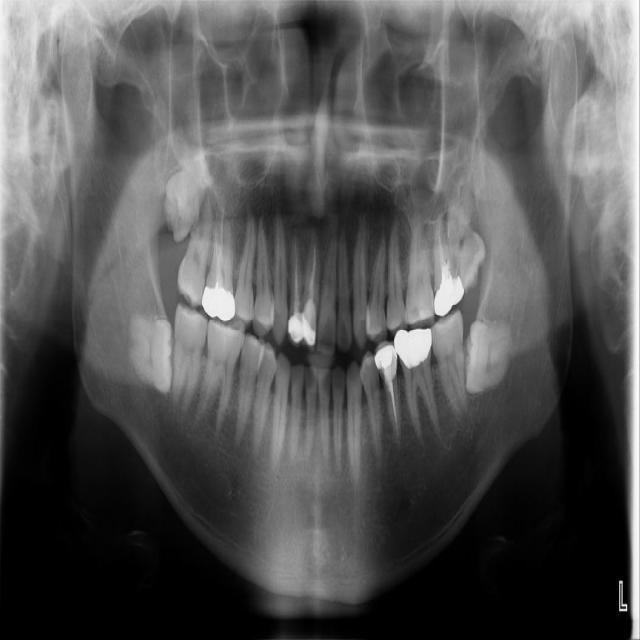Crown: (394, 327, 432, 373), (202, 272, 236, 320), (433, 265, 465, 316), (375, 342, 397, 381), (288, 302, 306, 348), (301, 303, 317, 352)
Root Canal Treatment: (386, 377, 396, 427), (436, 223, 445, 272), (309, 244, 316, 304), (294, 237, 299, 302), (221, 208, 225, 265)
impacted tooth: (165, 148, 207, 242), (463, 320, 513, 390), (128, 315, 173, 391), (450, 200, 485, 288)
